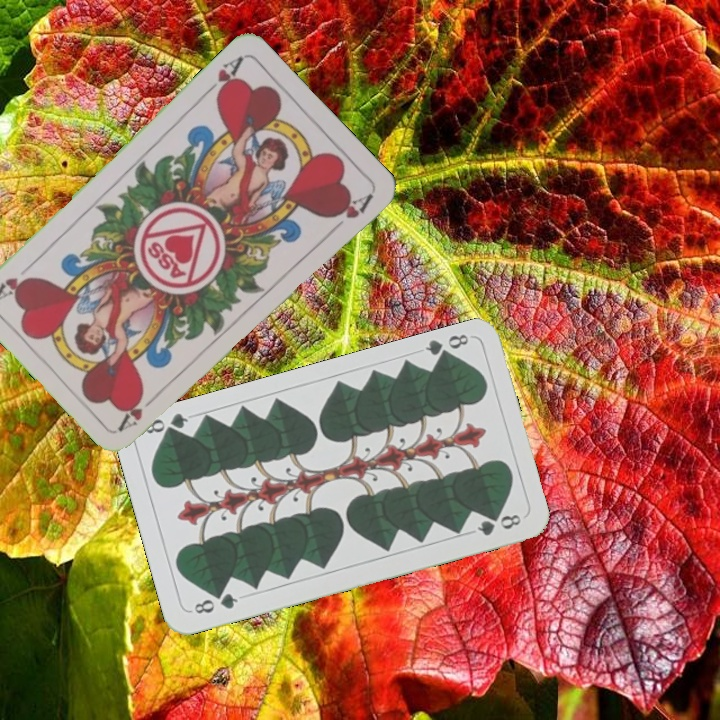G8: (421, 329, 471, 364), (190, 589, 241, 617)
HA: (199, 52, 246, 103), (115, 387, 164, 433)
